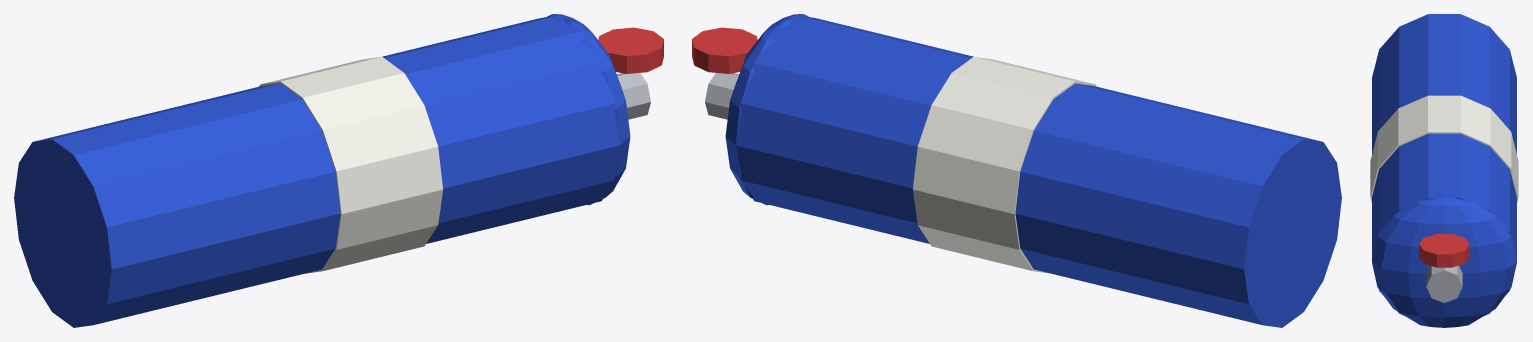
The model's file is garage_nitro_tank.glb.
The picture shows the model from 3 angles, left to right: view 1: azimuth 30°, elevation 25°; view 2: azimuth 150°, elevation 25°; view 3: azimuth 270°, elevation 25°; orthographic projection. The views are drawn at different scales.
Parts seen in each view (by area): view 1: tank_nitro_blue, band_counter_white, knob_sign_red, cap_nitro_blue, valve_tool_chrome; view 2: tank_nitro_blue, band_counter_white, knob_sign_red, cap_nitro_blue, valve_tool_chrome; view 3: tank_nitro_blue, cap_nitro_blue, band_counter_white, knob_sign_red, valve_tool_chrome.
Boxes of the visible parts, x1,y1,x2,y2 form: tank_nitro_blue: [14, 15, 619, 327]; band_counter_white: [259, 56, 442, 273]; knob_sign_red: [598, 27, 663, 73]; cap_nitro_blue: [546, 14, 630, 205]; valve_tool_chrome: [617, 73, 650, 119]; tank_nitro_blue: [736, 15, 1341, 327]; band_counter_white: [913, 56, 1096, 273]; knob_sign_red: [692, 27, 757, 73]; cap_nitro_blue: [725, 14, 809, 205]; valve_tool_chrome: [705, 73, 738, 119]; tank_nitro_blue: [1372, 14, 1516, 315]; cap_nitro_blue: [1372, 196, 1516, 327]; band_counter_white: [1370, 95, 1518, 202]; knob_sign_red: [1419, 234, 1469, 267]; valve_tool_chrome: [1426, 265, 1462, 302].
Size of the model in its own units: 0.7033 by 0.2 by 0.204.
